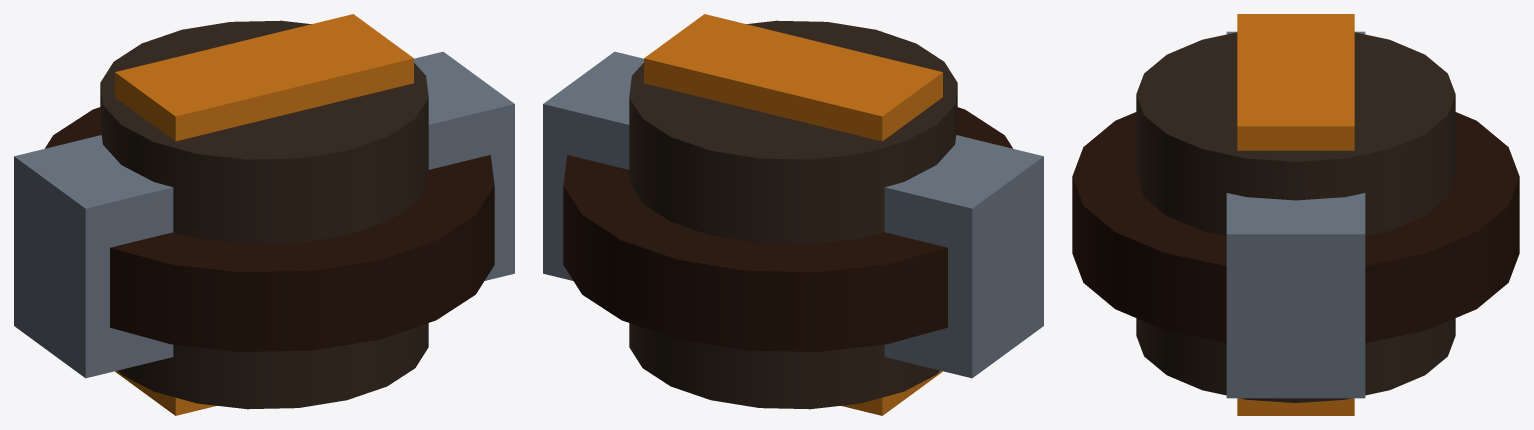
Rendered from prison-locks.obj.
3 renders of one model, left to right at view 1: azimuth 30°, elevation 25°; view 2: azimuth 150°, elevation 25°; view 3: azimuth 270°, elevation 25°, orthographic. The views are drawn at different scales.
Visible parts, largest first — view 1: drain_pipe__drain_pipe, drain_pipe_flange__drain_pipe_flange, front_gate_lock__front_gate_lock_housing, cell_lock_1__cell_lock_1_body; view 2: drain_pipe__drain_pipe, drain_pipe_flange__drain_pipe_flange, front_gate_lock__front_gate_lock_housing, cell_lock_1__cell_lock_1_body; view 3: drain_pipe__drain_pipe, drain_pipe_flange__drain_pipe_flange, front_gate_lock__front_gate_lock_housing, cell_lock_1__cell_lock_1_body.
Part boxes in pixels (x1,y1,x2,y2): drain_pipe__drain_pipe: [100, 20, 428, 409]; drain_pipe_flange__drain_pipe_flange: [45, 107, 494, 351]; front_gate_lock__front_gate_lock_housing: [14, 51, 514, 378]; cell_lock_1__cell_lock_1_body: [115, 14, 413, 415]; drain_pipe__drain_pipe: [629, 20, 957, 409]; drain_pipe_flange__drain_pipe_flange: [563, 107, 1012, 351]; front_gate_lock__front_gate_lock_housing: [543, 51, 1043, 378]; cell_lock_1__cell_lock_1_body: [644, 14, 942, 415]; drain_pipe__drain_pipe: [1136, 32, 1455, 402]; drain_pipe_flange__drain_pipe_flange: [1072, 112, 1519, 343]; front_gate_lock__front_gate_lock_housing: [1226, 31, 1365, 398]; cell_lock_1__cell_lock_1_body: [1237, 14, 1354, 415].
Bounding box in the file's own units: 0.9 × 0.6 × 0.84.
